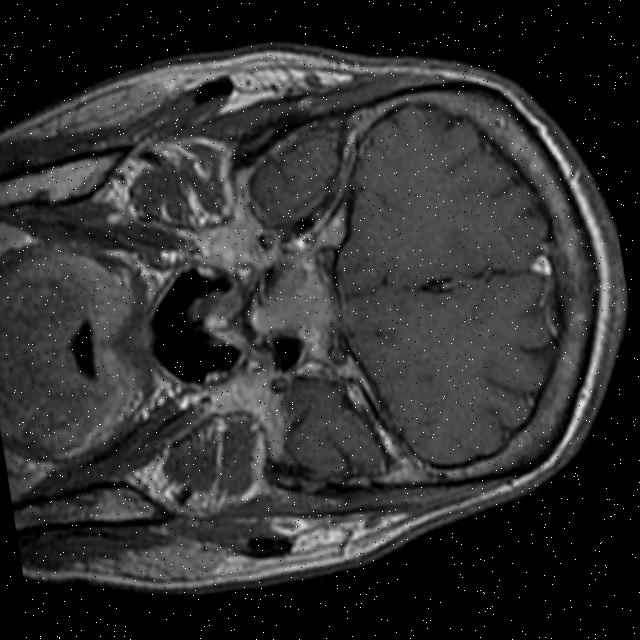Pituitary: (179, 284, 253, 354), (241, 276, 305, 347)
